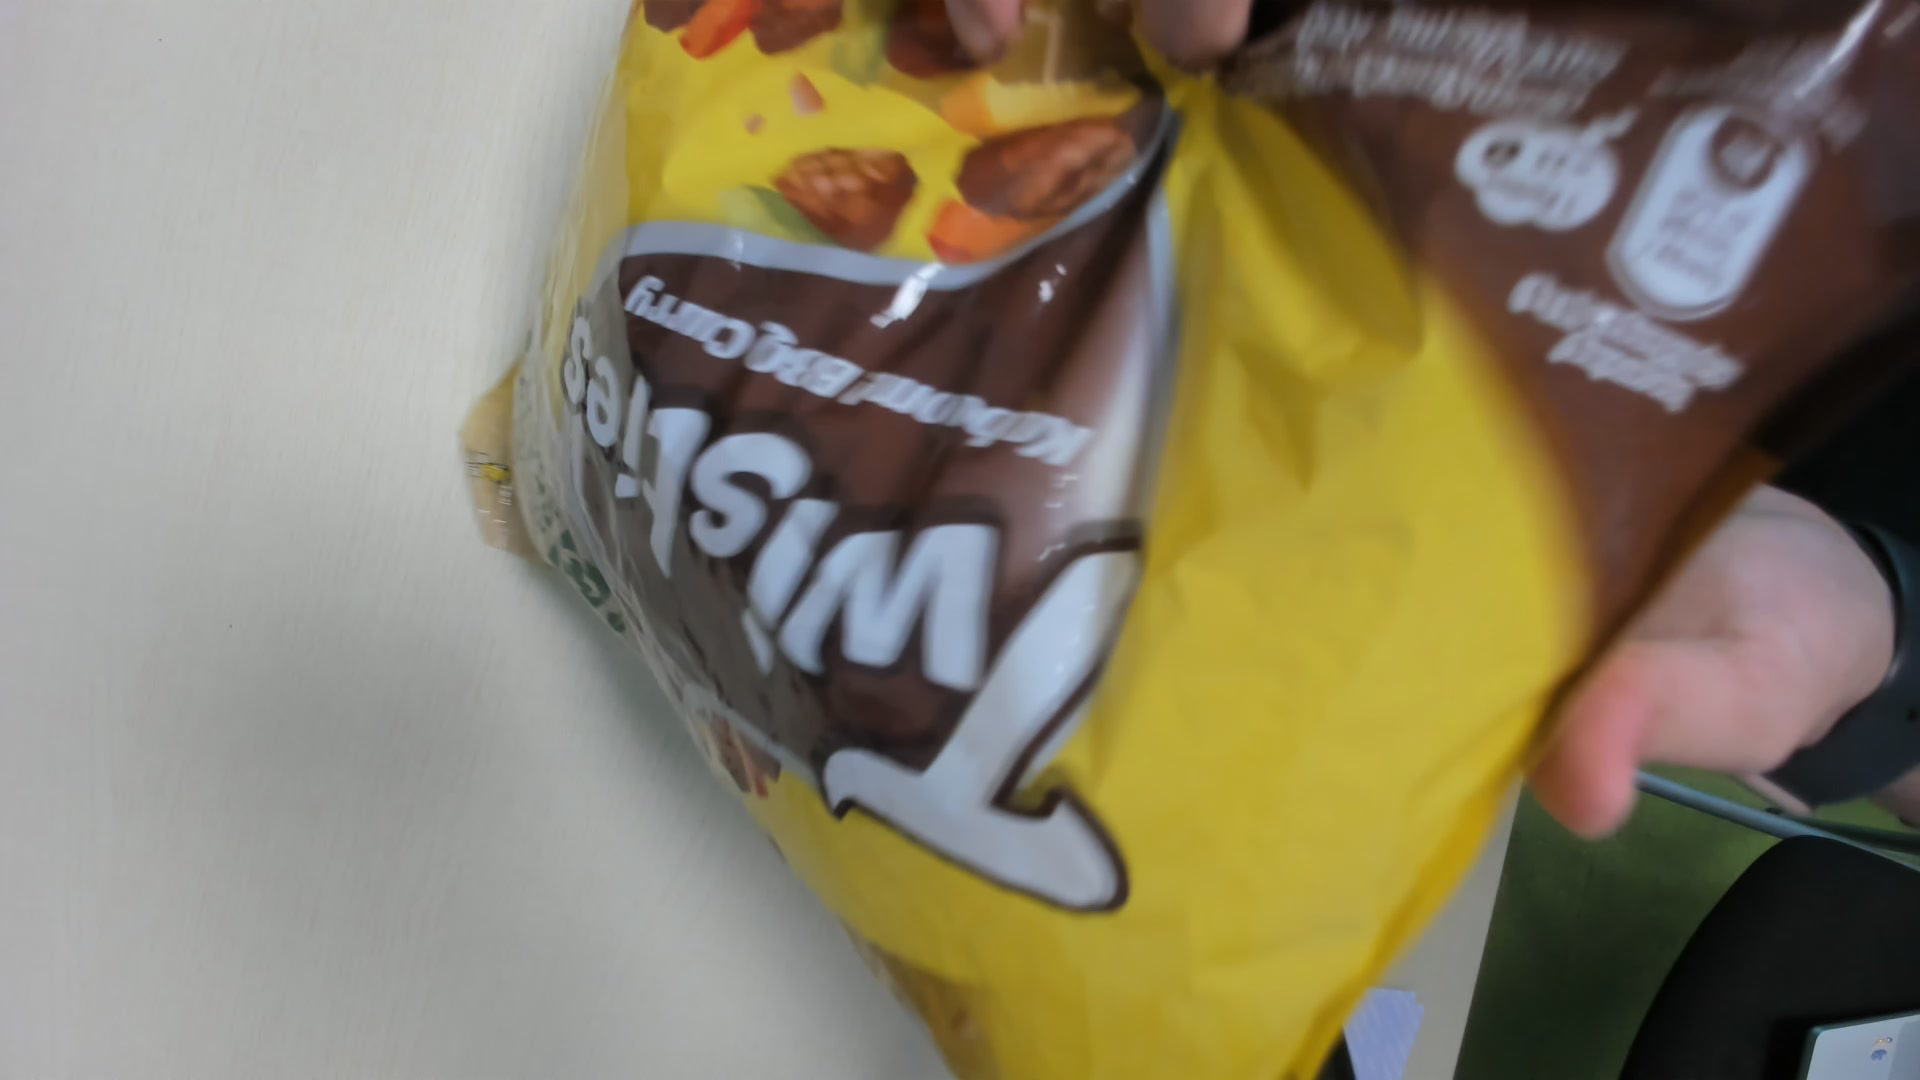PotatoChipsKeropok_0-99g_Halal_NonHealthy: (496, 1, 1920, 1080)
